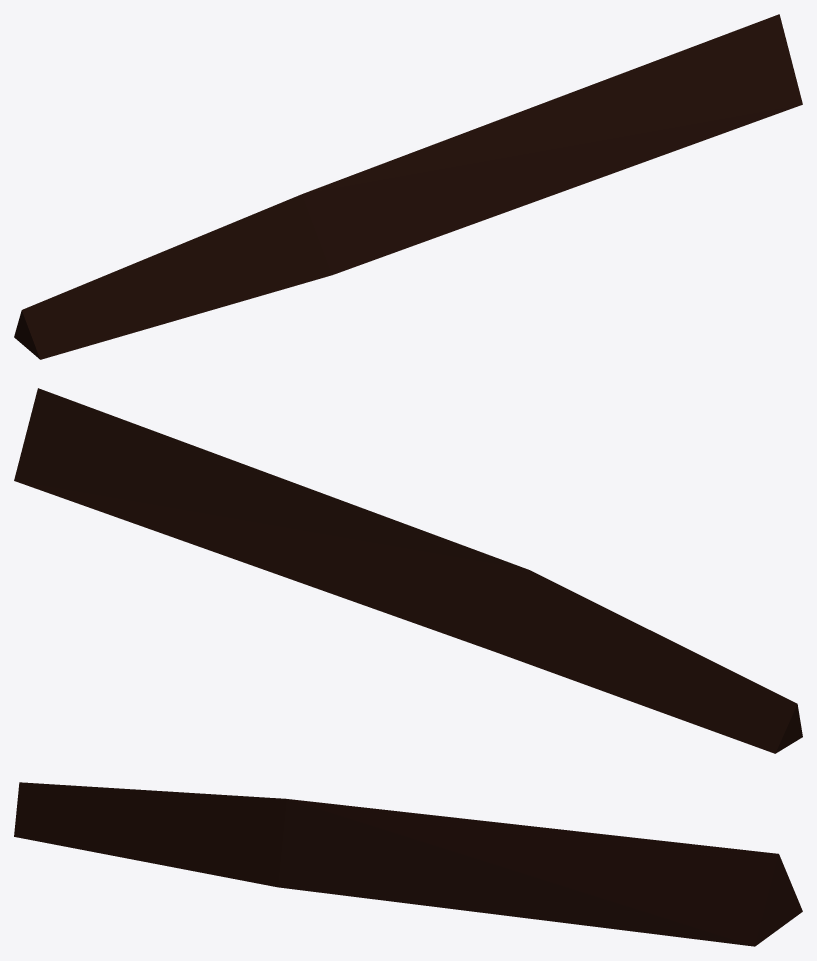
File: PineBranch4.fbx.glb
3 renders of one model, top to bottom at view 1: azimuth 30°, elevation 25°; view 2: azimuth 150°, elevation 25°; view 3: azimuth 330°, elevation 25°, orthographic. The views are drawn at different scales.
Parts seen in each view (by area): view 1: PineBranch4; view 2: PineBranch4; view 3: PineBranch4.
Boxes of the visible parts, bbox=[...] form: PineBranch4: bbox=[14, 14, 802, 359]; PineBranch4: bbox=[14, 388, 802, 753]; PineBranch4: bbox=[14, 782, 802, 946].
Bounding box in the file's own units: 111 × 22.83 × 11.95.
